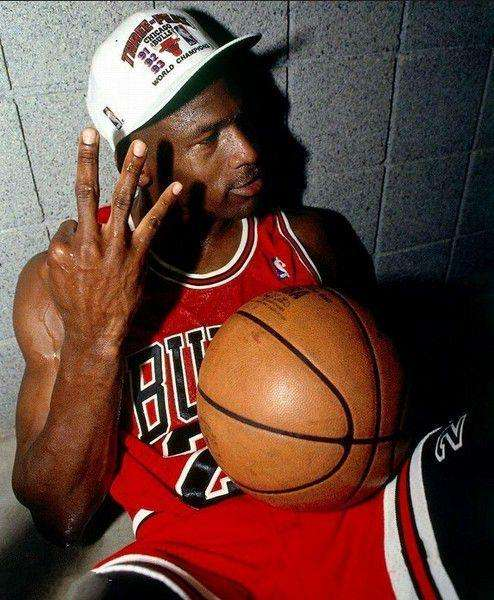ball: (197, 283, 413, 513)
